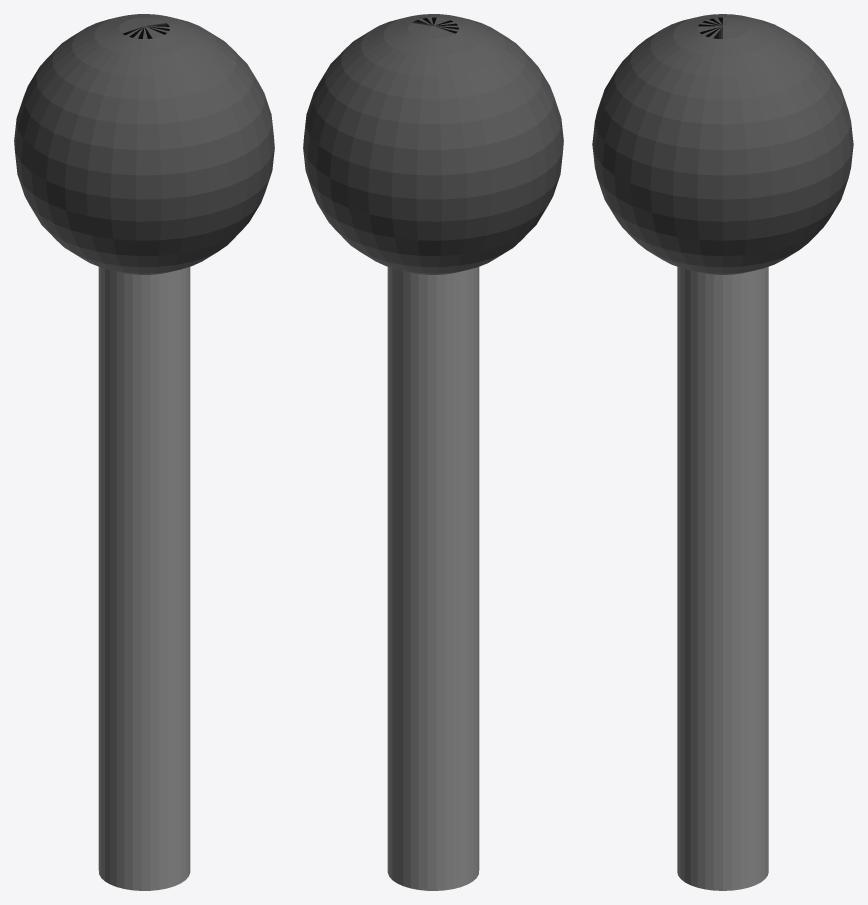
Rendered from switch_lever.obj.
3 renders of one model, left to right at view 1: azimuth 30°, elevation 25°; view 2: azimuth 150°, elevation 25°; view 3: azimuth 270°, elevation 25°, orthographic.
Visible parts, largest first — view 1: レバー_球; view 2: レバー_球; view 3: レバー_球.
Part boxes in pixels (x1=…): レバー_球: x1=14, y1=14, x2=274, y2=890; レバー_球: x1=303, y1=14, x2=563, y2=890; レバー_球: x1=592, y1=14, x2=853, y2=890.
Size of the model in its own units: 0.8209 by 2.93 by 0.8209.
1 material, 1 textured.
